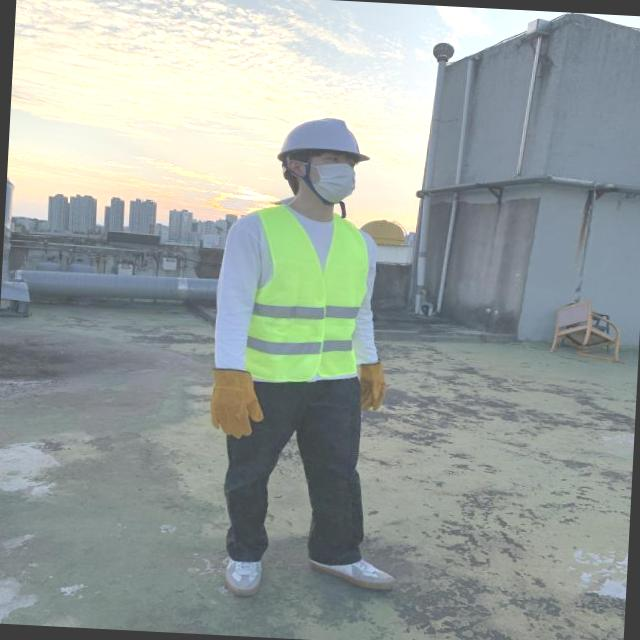boots: (306, 556, 398, 590), (223, 556, 264, 598)
gloves: (190, 341, 292, 444), (337, 337, 402, 418)
helmet: (276, 116, 371, 168)
vest: (241, 205, 365, 386)
